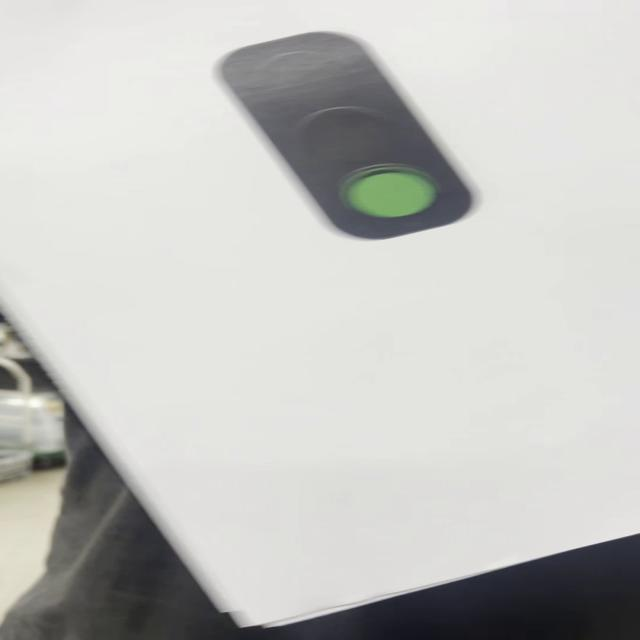green: (219, 30, 477, 244)
